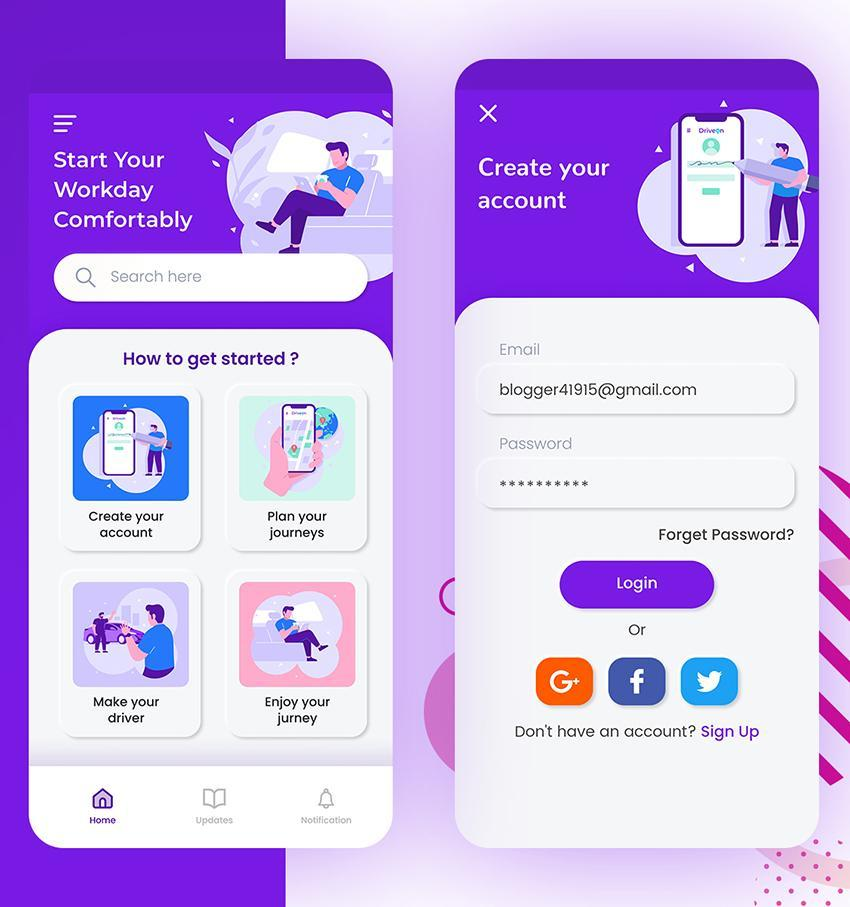button: (556, 558, 716, 613), (604, 659, 670, 711), (534, 658, 595, 711), (680, 659, 742, 709)
icon: (51, 107, 80, 139), (476, 101, 503, 129)
input: (476, 458, 797, 513), (478, 364, 797, 416), (51, 254, 369, 305)
label: (496, 433, 585, 452), (498, 340, 546, 361)
